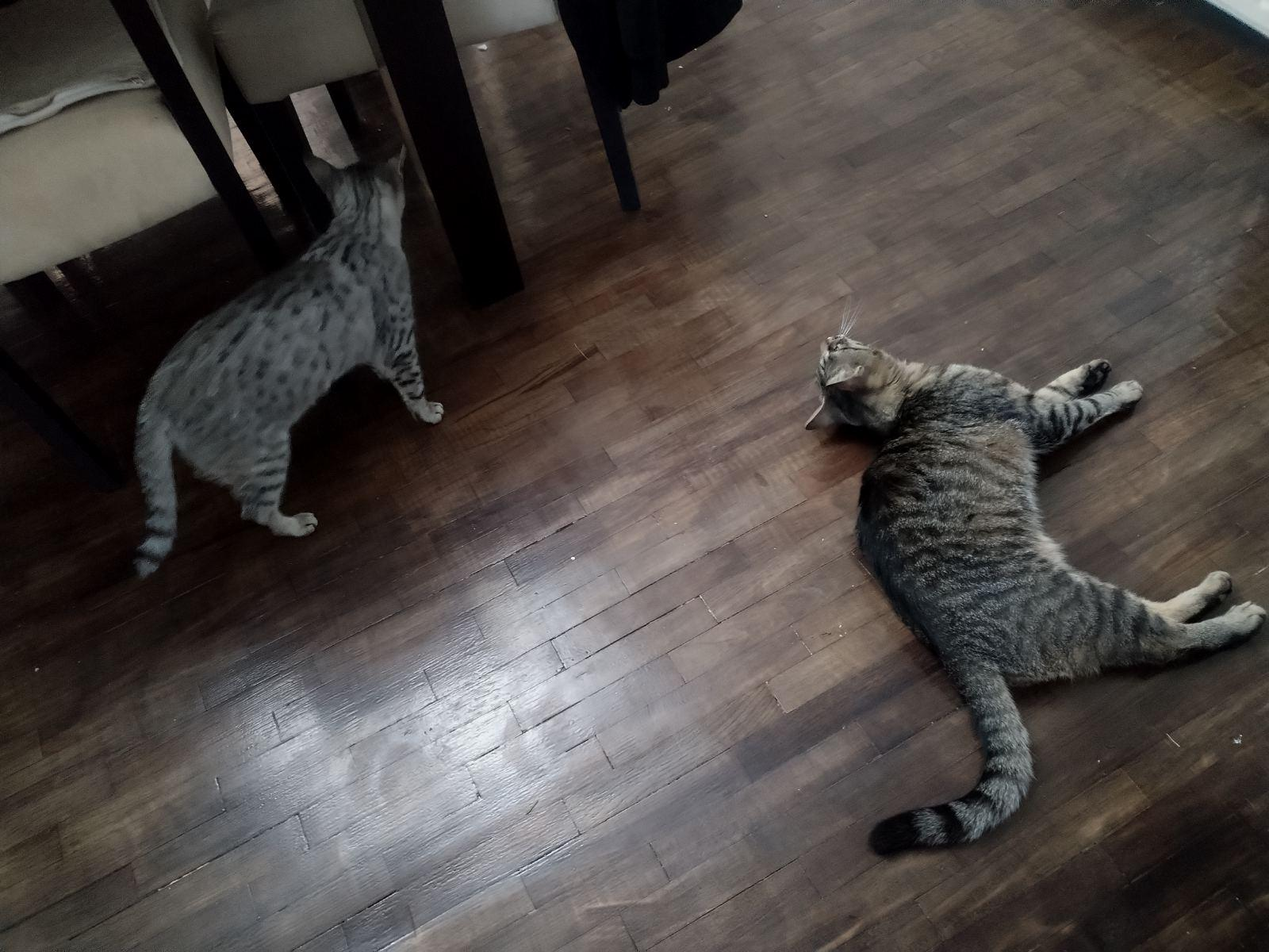macka: (799, 335, 1264, 859), (113, 140, 449, 595)
